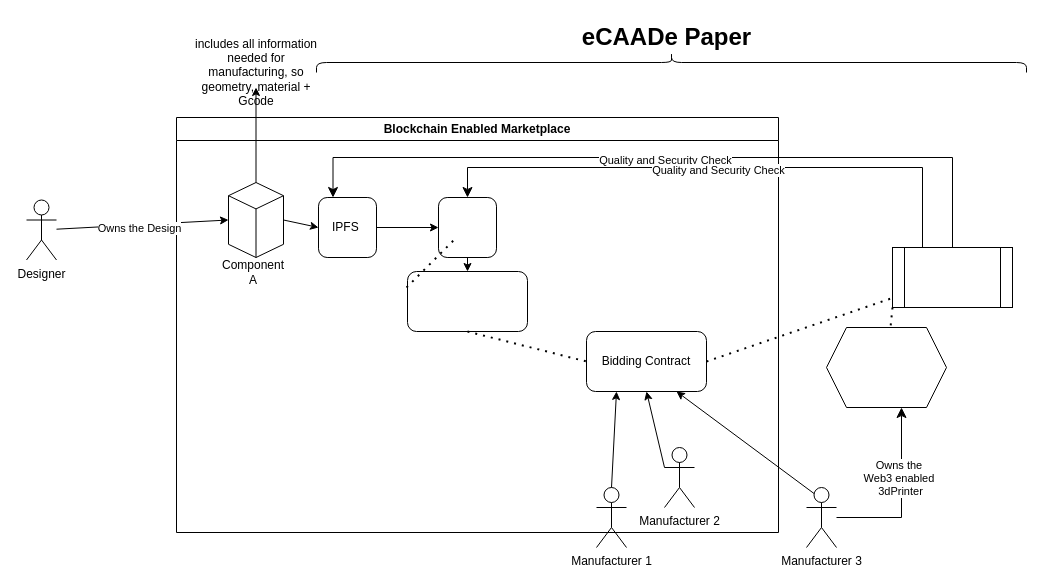
Some shapes in this 1044 by 585 pixel diagram are drawn without their labels. Here are the shapes that lost their labels. From the top down, the centre of each, then its label:
At (x=467, y=227): "ERC115 Token".
At (x=952, y=277): "Component A is manufactured".
At (x=467, y=301): "Marketplace Contract".
At (x=886, y=367): "3d printer, running mainsail, klipper, IPFS, web3.py".
